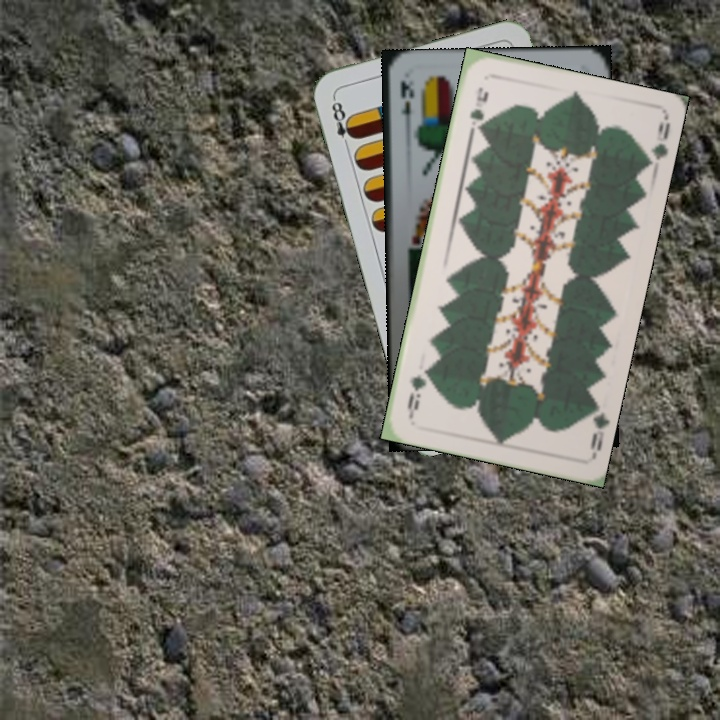E8: (327, 93, 359, 152)
EK: (396, 76, 416, 134)
G9: (582, 398, 610, 459), (465, 83, 491, 135)
